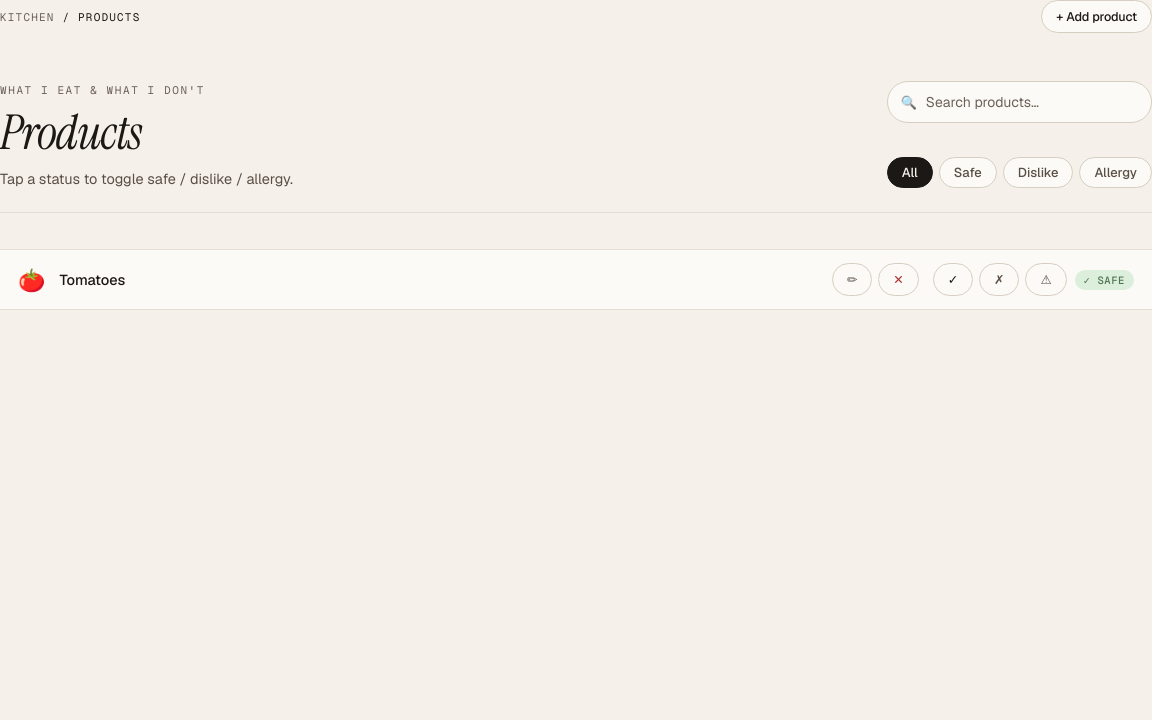
Test: ProductsScreen – delete product confirmation modal › closes the confirmation modal when Cancel is clicked
Click the button titled "Delete". click: (898, 280)
box: [878,263,919,296]
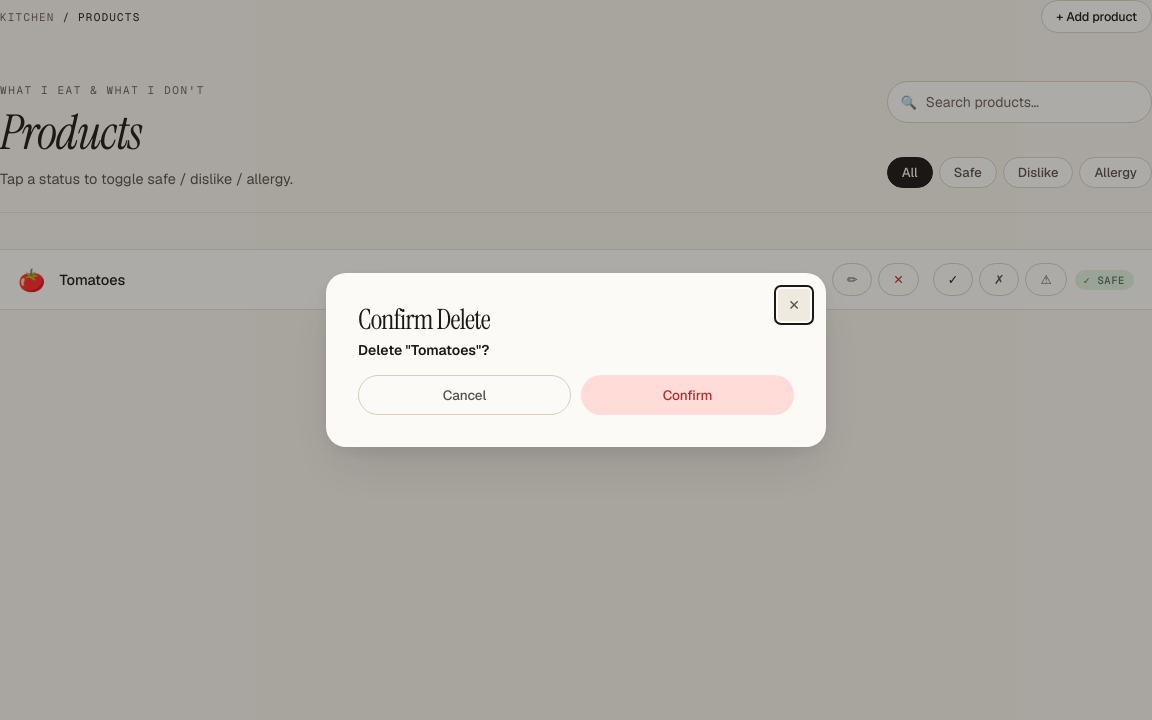
Click the button "Cancel". click: (464, 395)
box: [358,375,571,415]
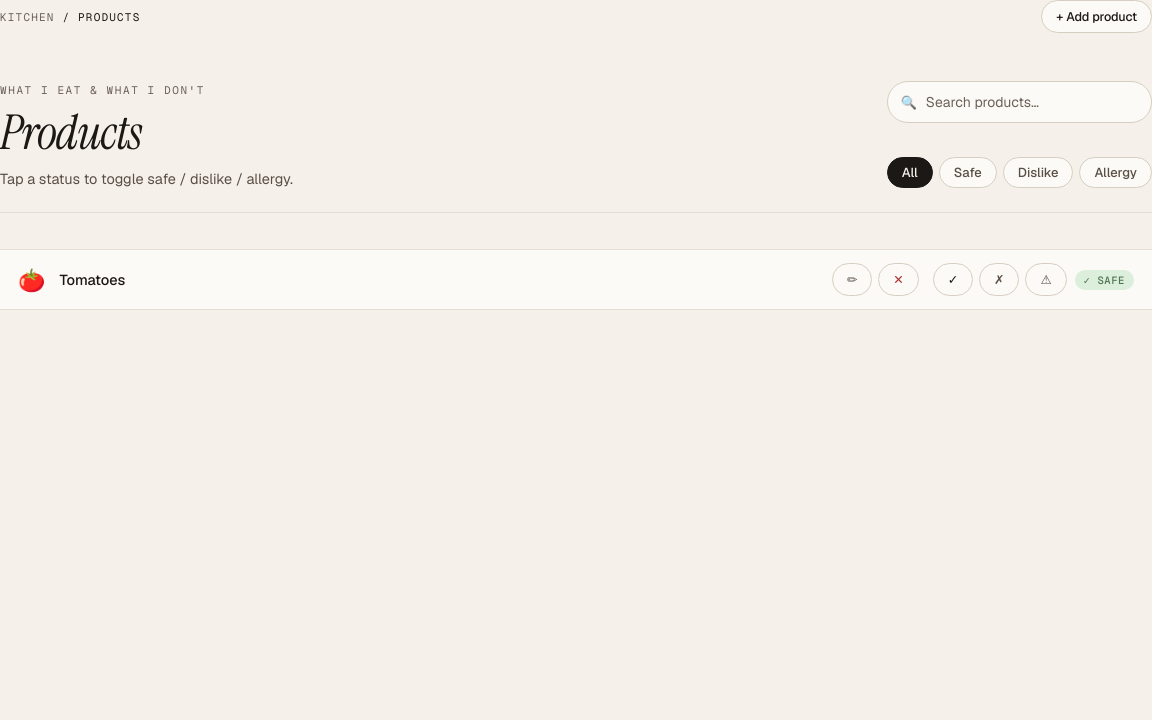
Expected: the text "Confirm Delete" is gone
